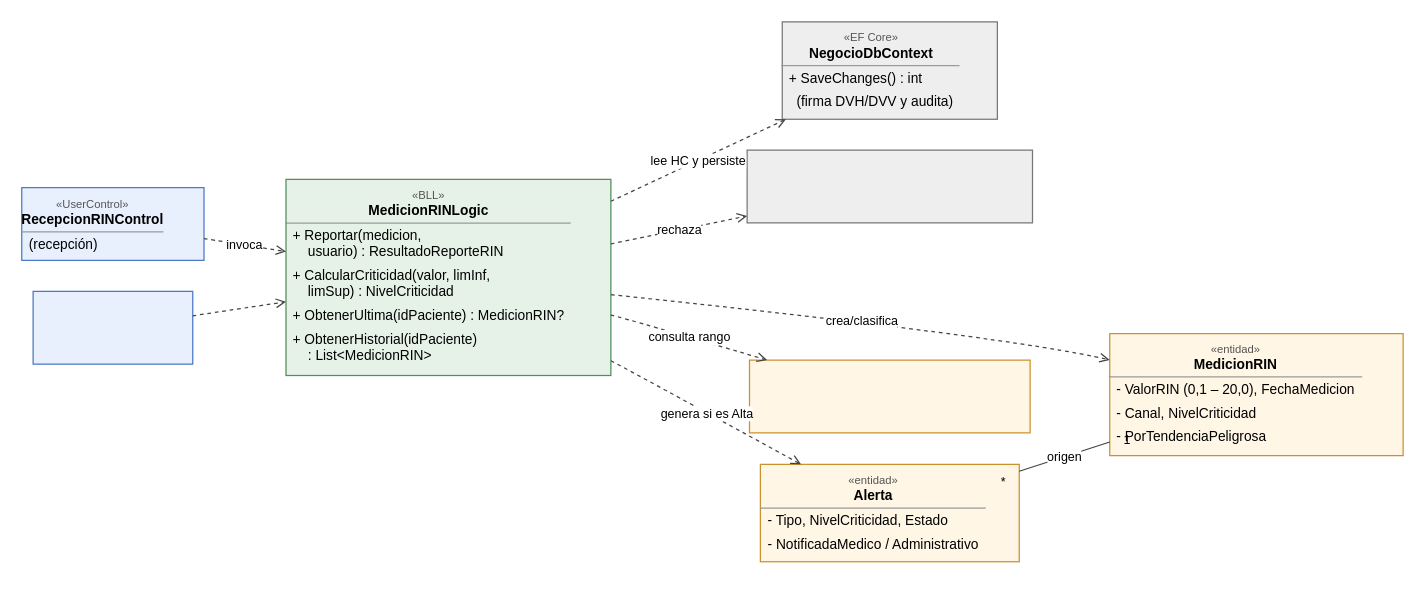
This 1426x590 diagram has some shape labels left out. The centre of each missing label's shape, as x and y in pixels:
"«entidad» HistoriaClinica - LimiteInferiorRIN, LimiteSuperiorRIN" belongs at (x=889, y=396).
"«static» ReglasNegocio + Rechazar(errores, contexto, usuario)" belongs at (x=889, y=186).
"«UserControl» PortalControl (portal del paciente)" belongs at (x=112, y=327).
